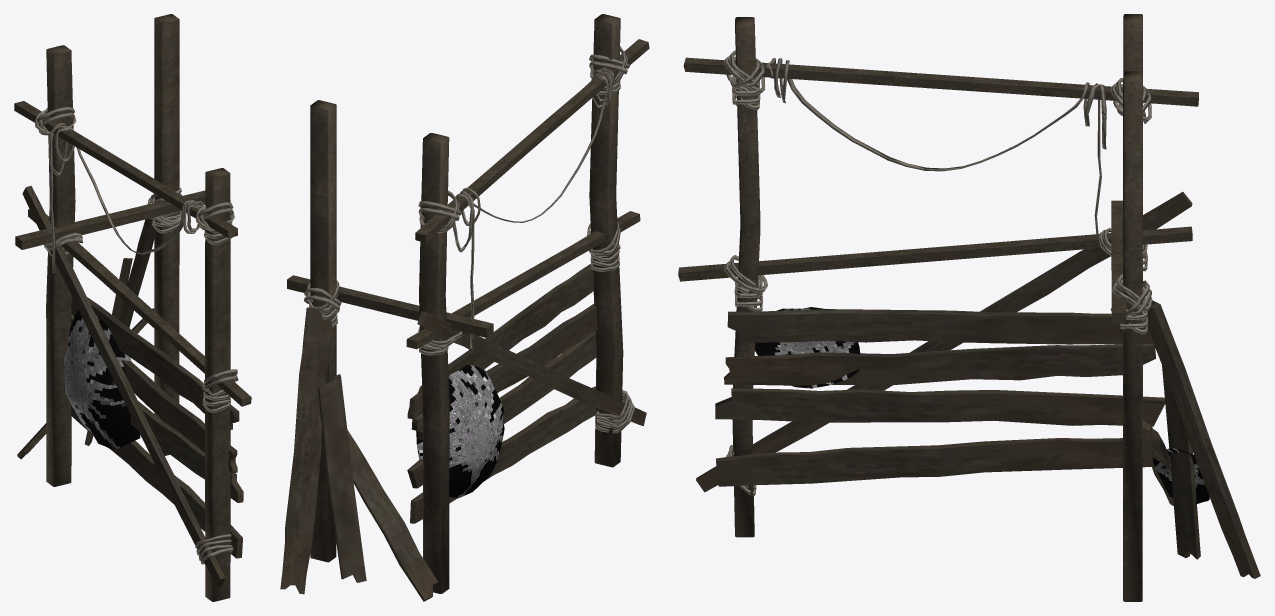
Rendered from AEG023_348out-transformed.glb.
3 renders of one model, left to right at view 1: azimuth 30°, elevation 25°; view 2: azimuth 150°, elevation 25°; view 3: azimuth 270°, elevation 25°, orthographic. The views are drawn at different scales.
Parts seen in each view (by area): view 1: default; view 2: default; view 3: default.
Part boxes in pixels (x1,y1,x2,y2): default: (14, 14, 251, 601); default: (280, 14, 649, 601); default: (678, 14, 1260, 601).
Bounding box in the file's own units: 2.22 × 4.83 × 4.86.
3 materials, 3 textured.
